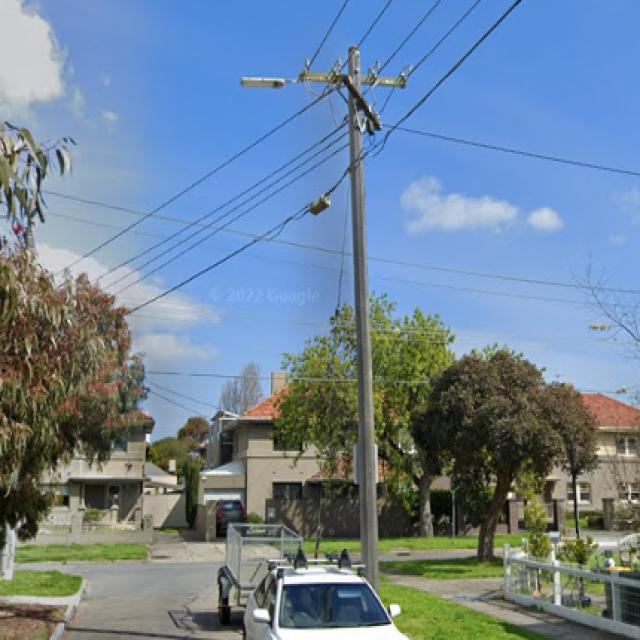crossarm: (300, 59, 410, 91), (342, 74, 383, 132)
streetlight: (240, 75, 300, 91)
timber-pole: (348, 44, 378, 600)
